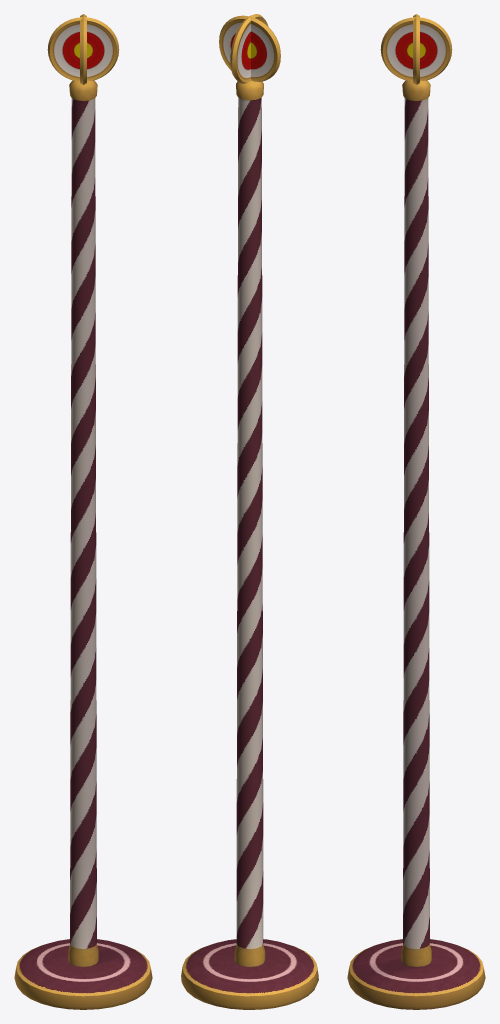
Rendered from disco_bullseye.glb.
3 views of the same model, side by side, from view 1: azimuth 90°, elevation 25°; view 2: azimuth 150°, elevation 25°; view 3: azimuth 270°, elevation 25° (orthographic).
Visible parts, largest first — view 1: Pole, Base, SideDisc, FrontDisc; view 2: Pole, Base, FrontDisc, SideDisc; view 3: Pole, Base, SideDisc, FrontDisc.
Boxes of the visible parts, bbox=[...] form: Pole: bbox=[68, 80, 98, 966]; Base: bbox=[14, 939, 152, 1009]; SideDisc: bbox=[47, 17, 119, 80]; FrontDisc: bbox=[80, 14, 86, 84]; Pole: bbox=[234, 80, 265, 966]; Base: bbox=[181, 939, 318, 1009]; FrontDisc: bbox=[219, 15, 280, 81]; SideDisc: bbox=[230, 14, 268, 83]; Pole: bbox=[401, 80, 431, 966]; Base: bbox=[347, 939, 485, 1009]; SideDisc: bbox=[380, 17, 452, 80]; FrontDisc: bbox=[413, 14, 419, 84].
Size of the model in its own units: 0.41 by 3.16 by 0.41.
1 material, 1 textured.
